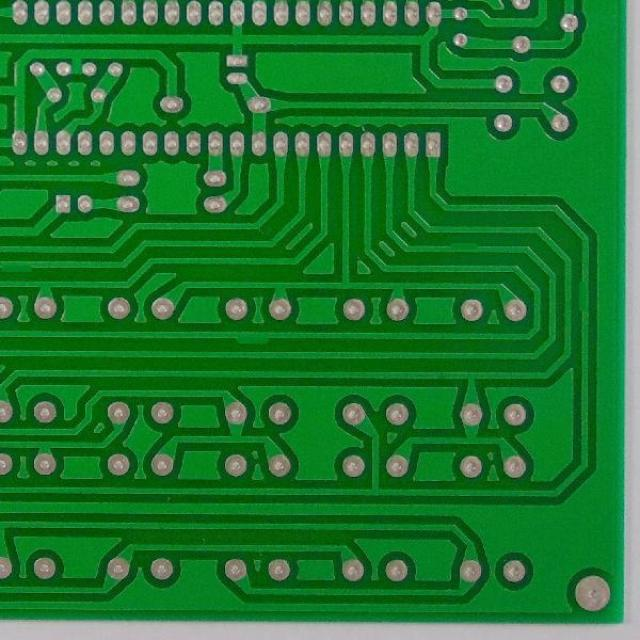spur: (227, 326, 274, 346), (1, 258, 42, 280), (447, 236, 482, 256), (575, 277, 591, 317)
